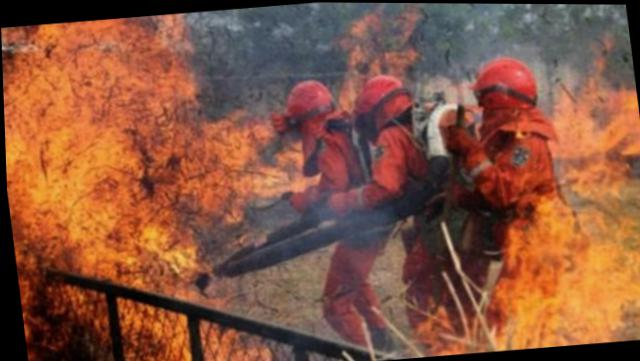fire: (0, 5, 292, 360), (436, 53, 639, 353)
